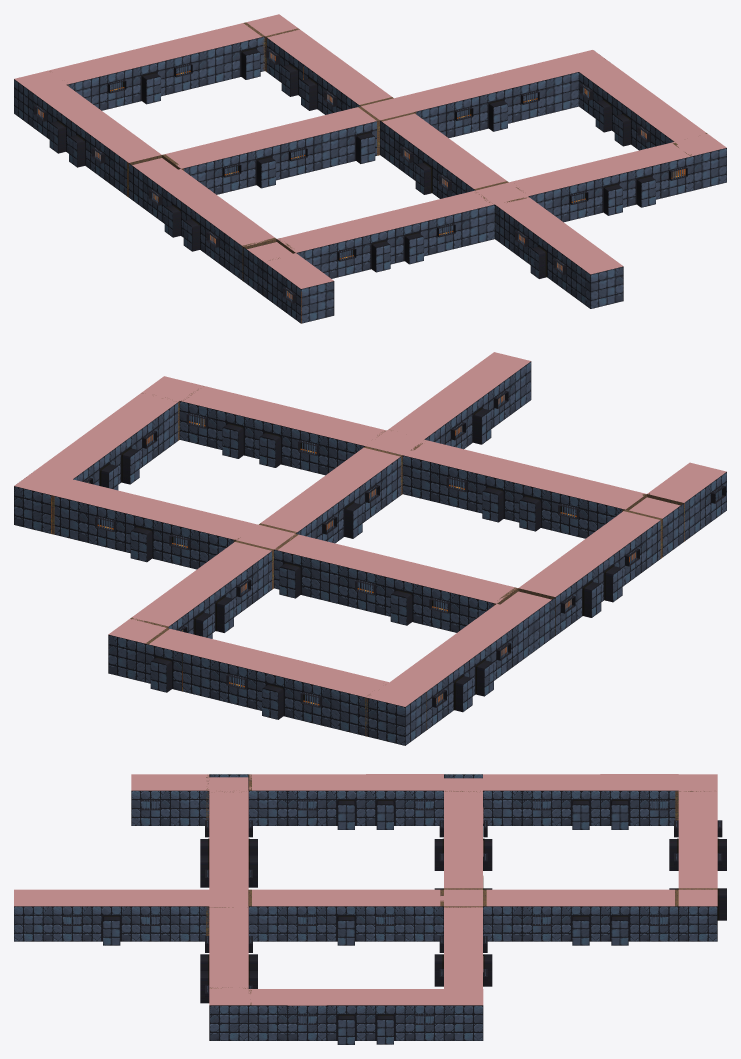
The model's file is escenario3d 1.fbx.
The picture shows the model from 3 angles, top to bottom: view 1: azimuth 30°, elevation 25°; view 2: azimuth 150°, elevation 25°; view 3: azimuth 270°, elevation 25°; orthographic projection. The views are drawn at different scales.
Visible parts, largest first — view 1: techo004; view 2: techo004; view 3: techo004.
Part boxes in pixels (bbox=[...]): techo004: bbox=[14, 14, 726, 323]; techo004: bbox=[14, 352, 726, 745]; techo004: bbox=[14, 774, 726, 1044].
Bounding box in the file's own units: 28.95 × 2.02 × 36.48.
